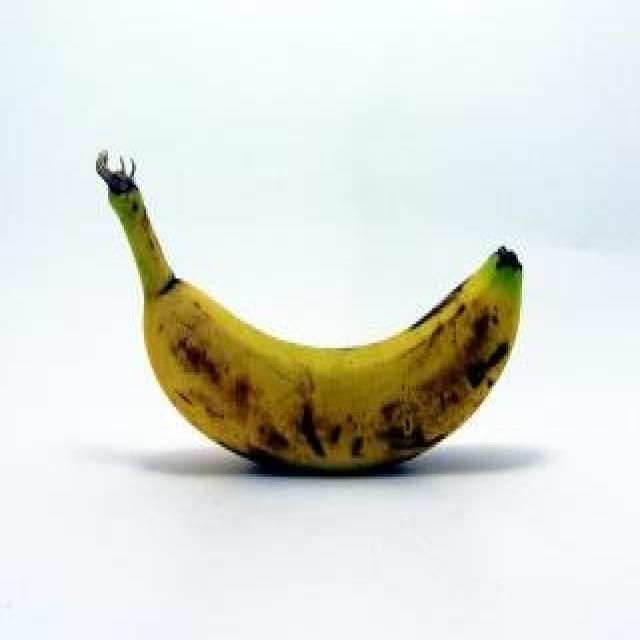Banana: (105, 166, 528, 472)
